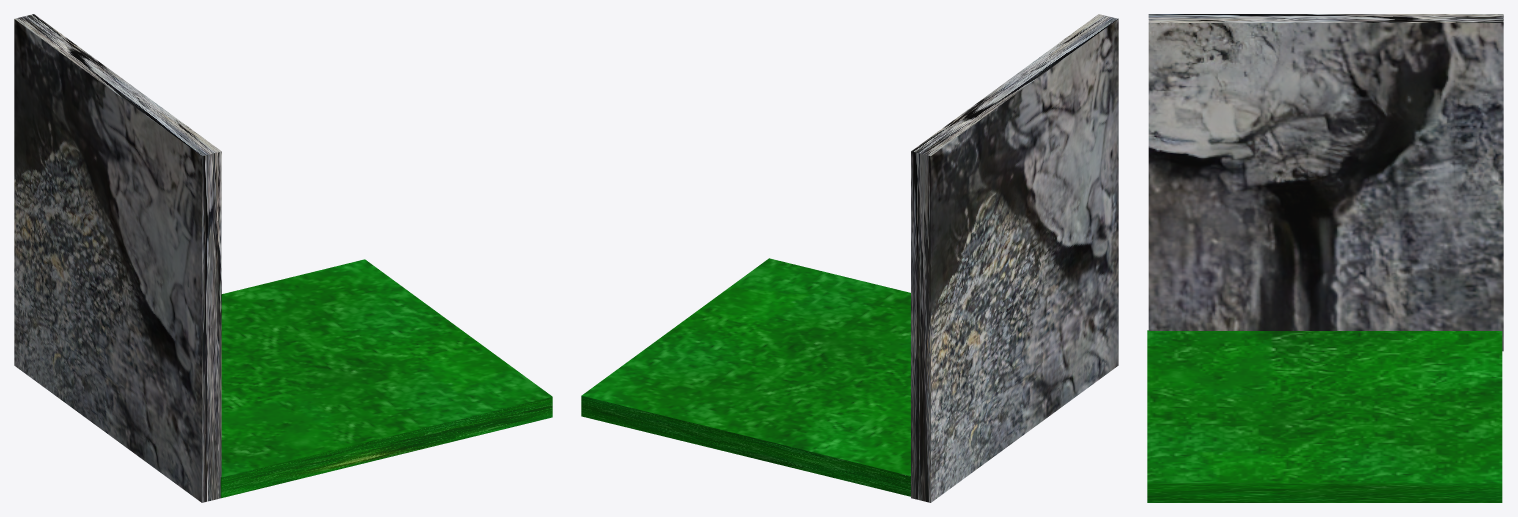
Rendered from stage.obj.
The picture shows the model from 3 angles, left to right: view 1: azimuth 30°, elevation 25°; view 2: azimuth 150°, elevation 25°; view 3: azimuth 270°, elevation 25°; orthographic projection. The views are drawn at different scales.
Visible parts, largest first — view 1: Wall_Cube, Floor_Cube.002; view 2: Wall_Cube, Floor_Cube.002; view 3: Wall_Cube, Floor_Cube.002.
Part boxes in pixels (bbox=[...]): Wall_Cube: bbox=[14, 14, 221, 502]; Floor_Cube.002: bbox=[220, 259, 552, 497]; Wall_Cube: bbox=[911, 14, 1118, 502]; Floor_Cube.002: bbox=[581, 258, 910, 496]; Wall_Cube: bbox=[1148, 14, 1503, 351]; Floor_Cube.002: bbox=[1147, 330, 1502, 502].
Size of the model in its own units: 12.1 by 11.46 by 11.28.
